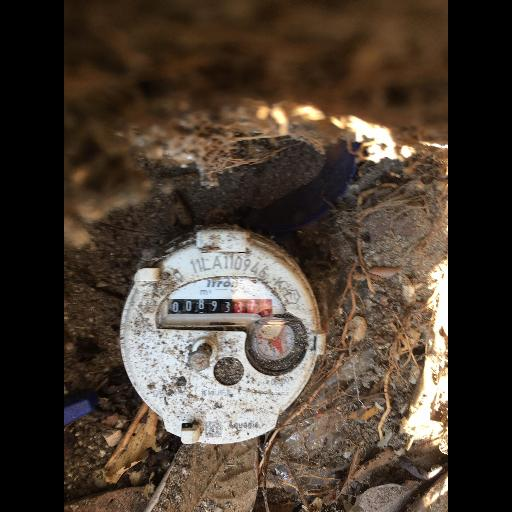0: (170, 298, 180, 314), (184, 298, 194, 314)
3: (222, 299, 233, 314), (235, 299, 246, 314)
4: (260, 300, 273, 318)
7: (247, 299, 258, 314)
8: (196, 298, 207, 314)
9: (209, 299, 219, 314)
border_water_meter_number: (167, 299, 272, 318)
